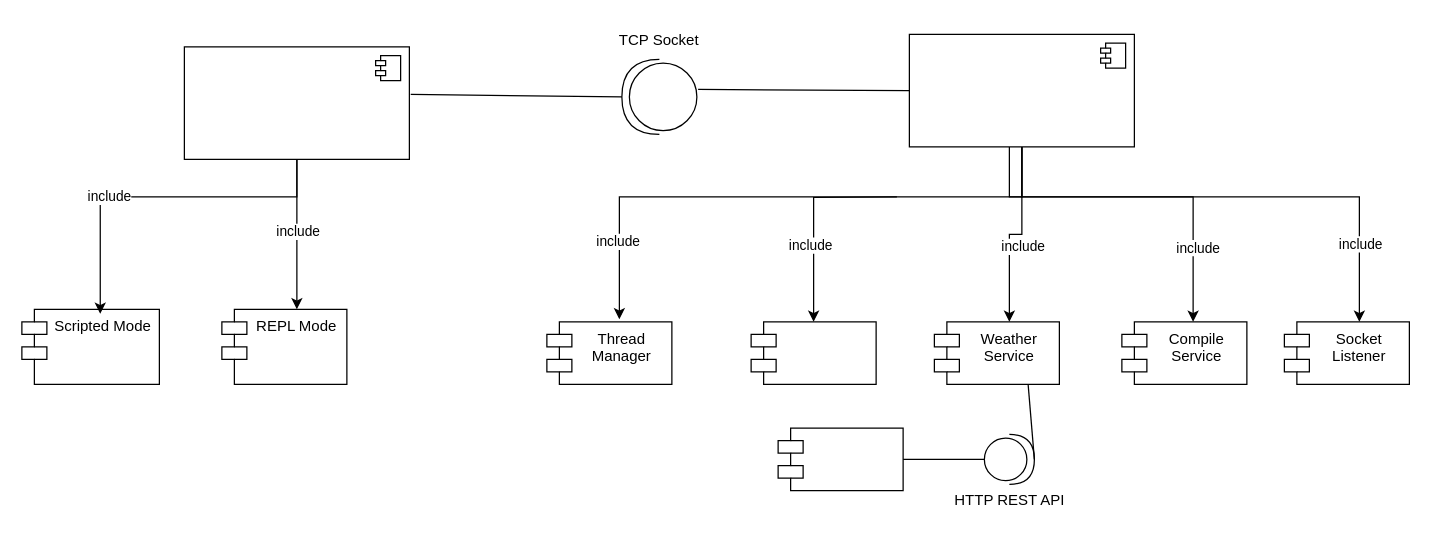
Some shapes in this 1431 by 549 pixel diagram are drawn without their labels. The shapes that lost their labels are listed below. From the top down, each one's box as (x1, y1, x2, y2) in pixels, then its label:
(183, 46, 409, 159): Client CLI App
(908, 33, 1134, 147): Server TCP App
(750, 321, 876, 384): OS Info Service
(777, 427, 903, 491): Open-Meteo API
